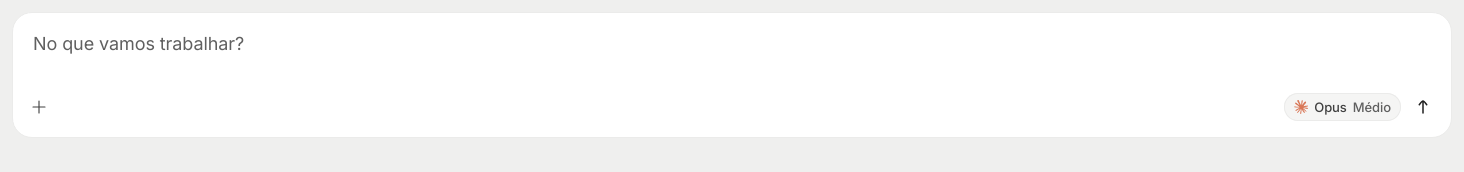
pergunta à parte › /btw pergunta à parte sem enviar, mesmo com o agente parado
Later steps or results of the test are not shown.
Type "/btw o swagger está atualizado?" into the text box named "Mensagem" at (732, 51), box [13, 13, 1451, 89]
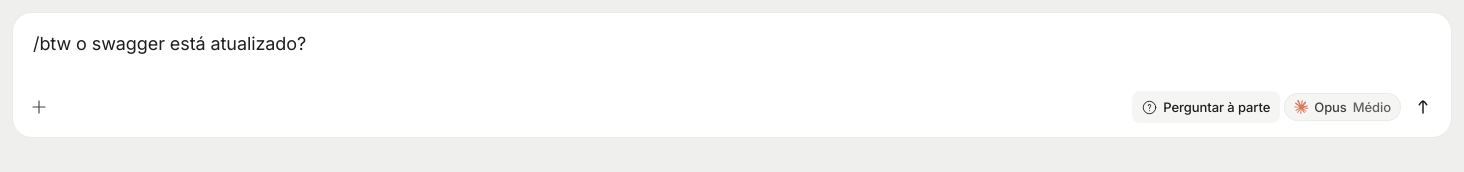
Check: the button "Perguntar à parte" is shown, box [1132, 91, 1280, 123]
Press Enter in the text box named "Mensagem", box [13, 13, 1451, 89]
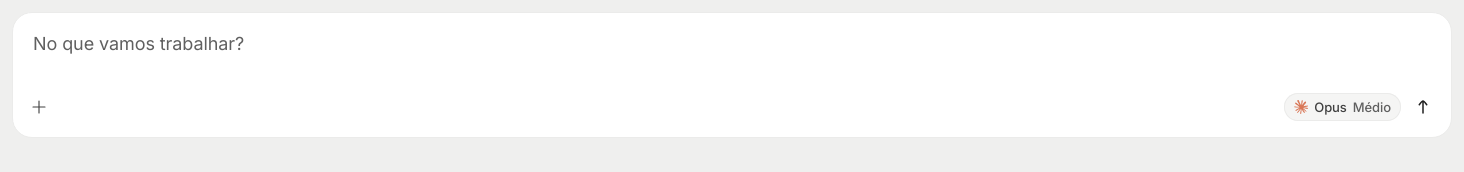
Check: the text box named "Mensagem" is empty, box [13, 13, 1451, 89]
